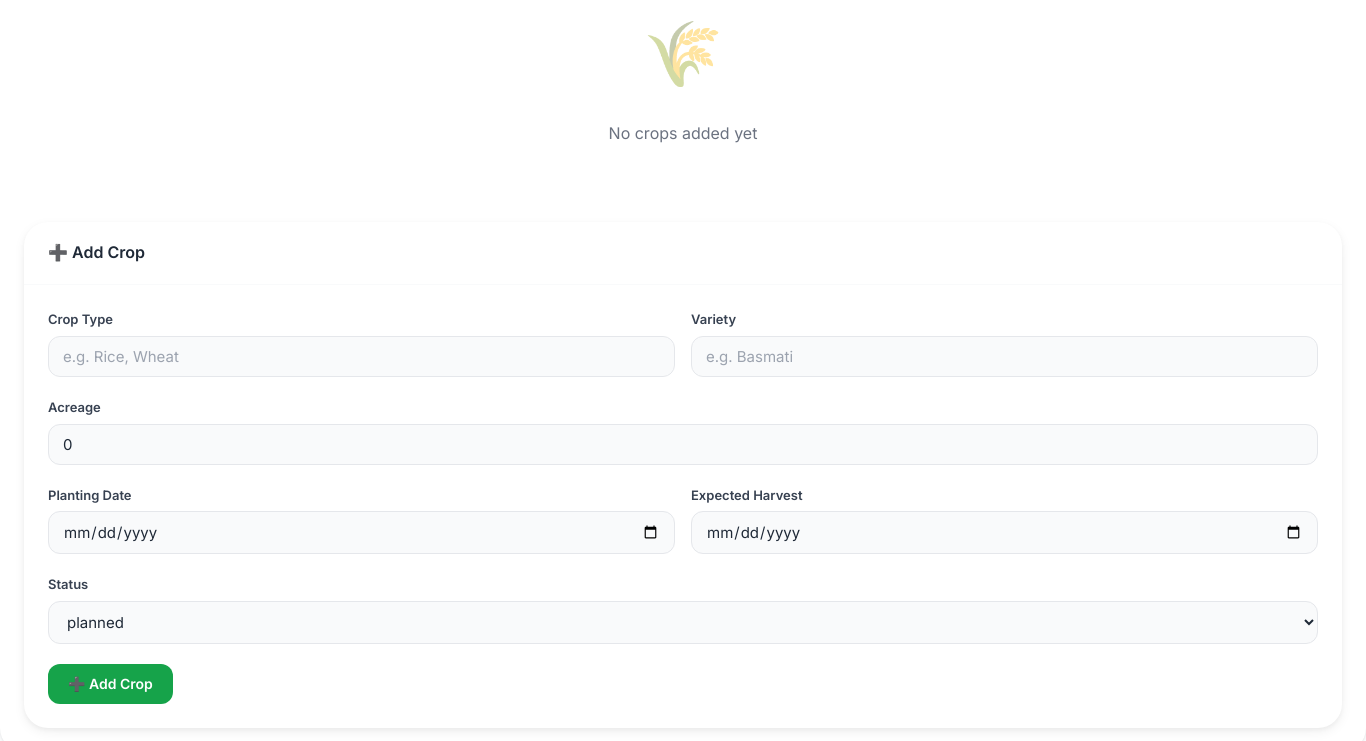
Test case: shows validation errors for empty fields
(page scrolled)
Click the button with test id "crop-submit" at (110, 684), box x1=48 y1=664 x2=173 y2=704
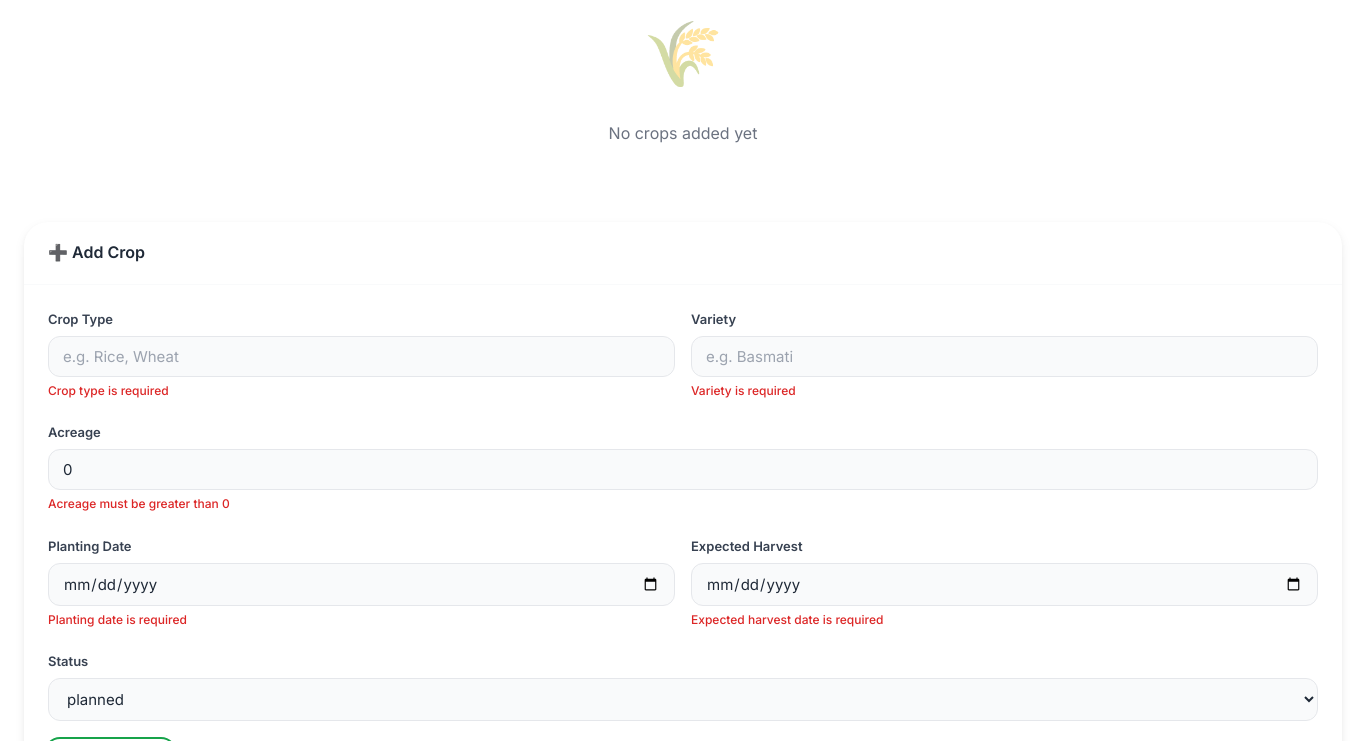
Now the text "Crop type is required" is shown, box x1=48 y1=383 x2=169 y2=398
Now the text "Variety is required" is shown, box x1=691 y1=383 x2=796 y2=398
